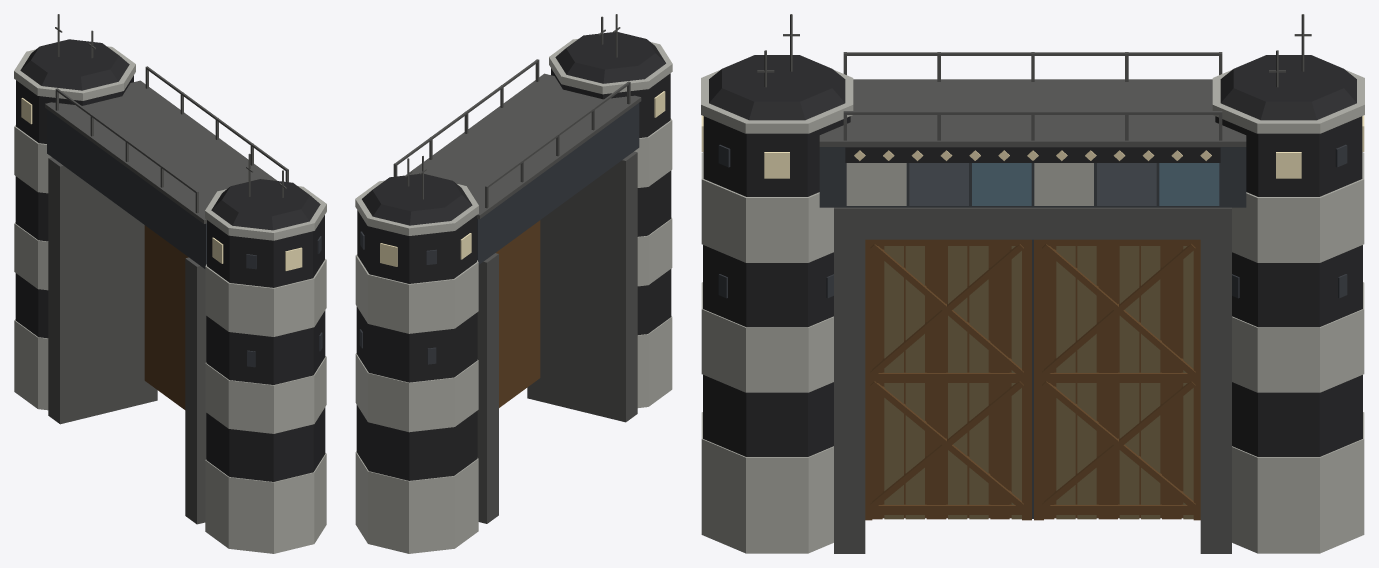
The model's file is fort_ship_gate.glb.
3 views of the same model, side by side, from view 1: azimuth 30°, elevation 25°; view 2: azimuth 150°, elevation 25°; view 3: azimuth 270°, elevation 25° (orthographic). The views are drawn at different scales.
Visible parts, largest first — view 1: fort_ship_gate; view 2: fort_ship_gate; view 3: fort_ship_gate.
Boxes of the visible parts, x1,y1,x2,y2 form: fort_ship_gate: (14,14,326,553); fort_ship_gate: (355,14,672,553); fort_ship_gate: (701,14,1364,553).
Size of the model in its own units: 5.49 by 19.4 by 23.36.
